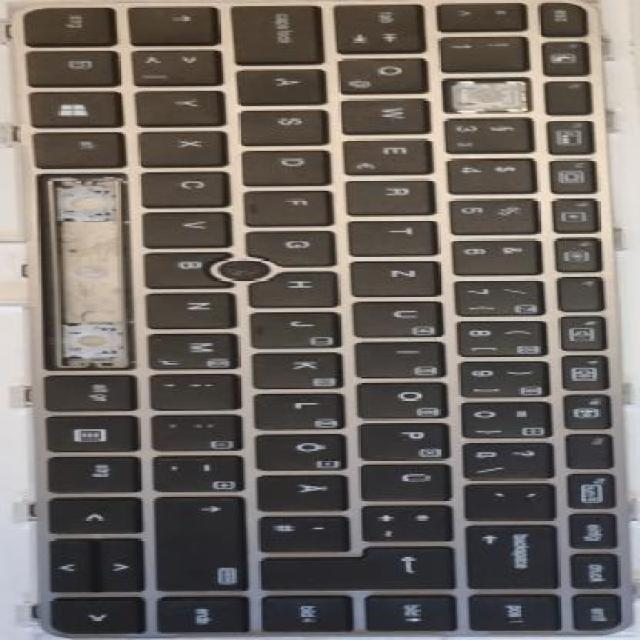Keyboard problems: (54, 180, 126, 366), (449, 80, 528, 112)
